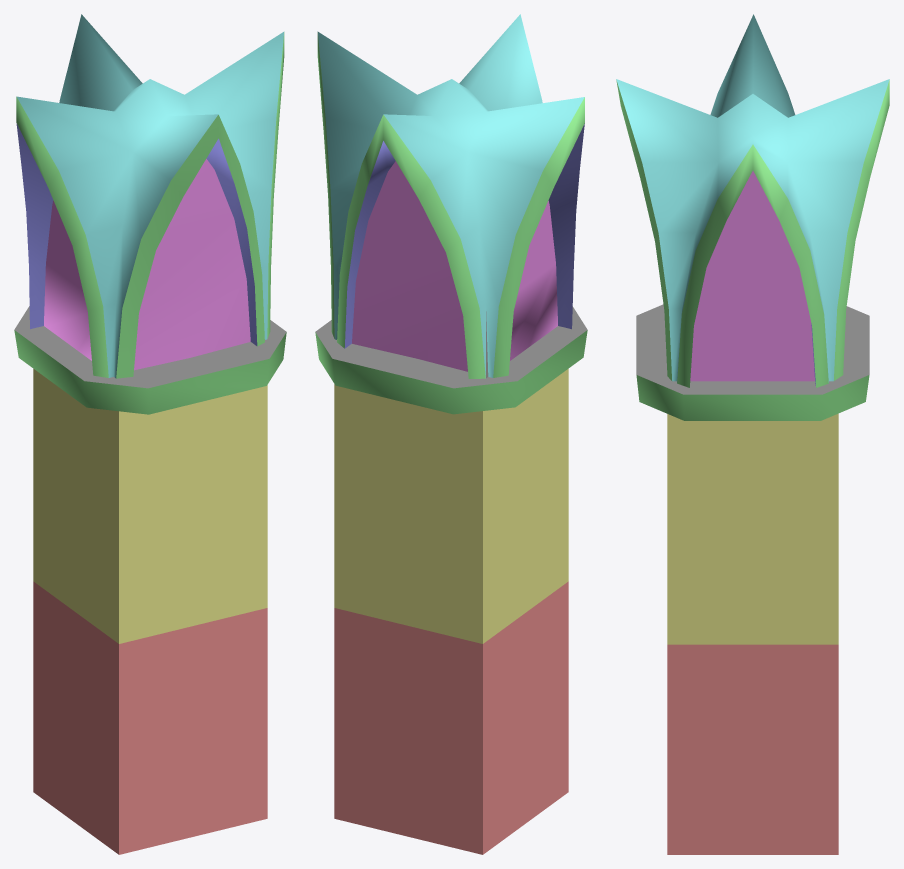
File: hed_enterance11.gltf
3 renders of one model, left to right at view 1: azimuth 30°, elevation 25°; view 2: azimuth 150°, elevation 25°; view 3: azimuth 270°, elevation 25°, orthographic.
Parts seen in each view (by area): view 1: hed_enterance11; view 2: hed_enterance11; view 3: hed_enterance11.
Boxes of the visible parts, x1,y1,x2,y2 form: hed_enterance11: [14, 14, 286, 854]; hed_enterance11: [315, 14, 587, 854]; hed_enterance11: [616, 14, 889, 854].
Bounding box in the file's own units: 0.9964 × 2.64 × 0.8846.
